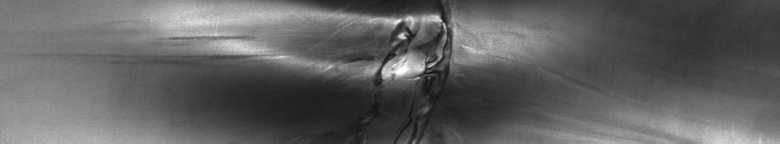ke: (172, 4, 456, 113)
